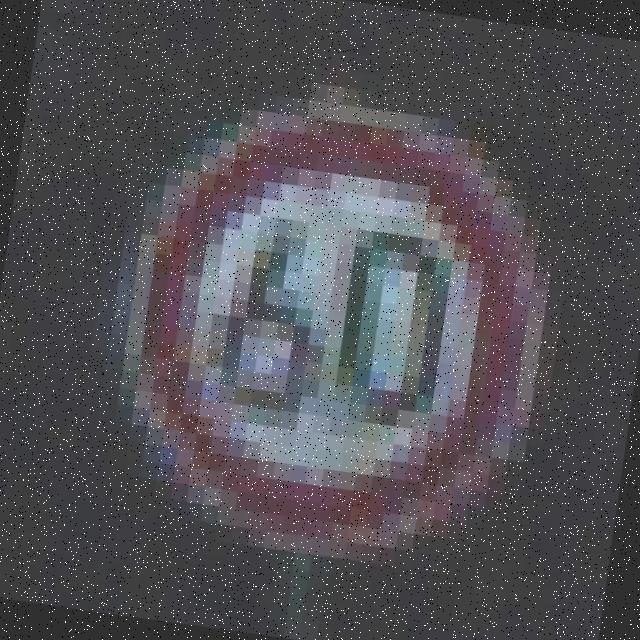Ograniczenie predkosci do 60: (33, 11, 640, 640)
